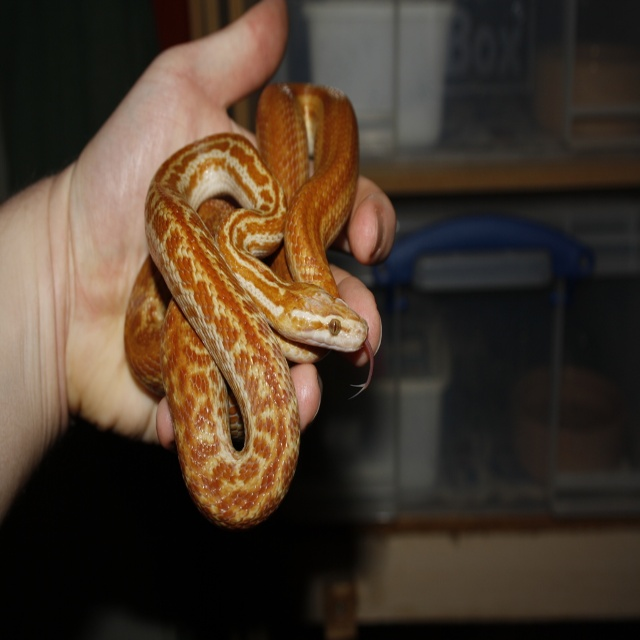Snake: (120, 83, 374, 531)
